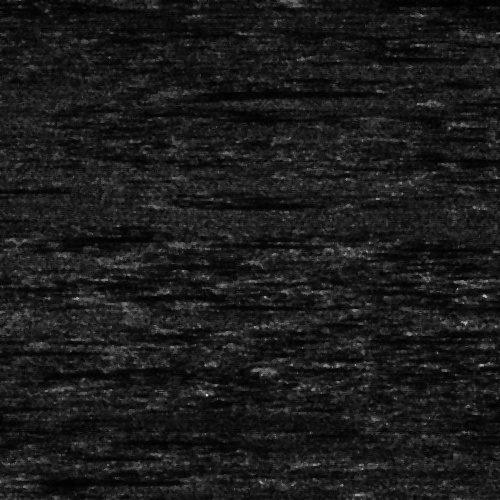object: (147, 85, 210, 98), (83, 292, 176, 299), (441, 115, 500, 126), (0, 474, 52, 485), (0, 235, 63, 242), (61, 435, 144, 440), (179, 238, 232, 245), (135, 199, 188, 206), (153, 302, 226, 307), (304, 0, 335, 6)
shadow: (179, 85, 358, 98), (0, 474, 151, 485), (319, 0, 500, 6), (206, 238, 331, 245), (130, 292, 252, 299), (0, 179, 51, 192), (190, 302, 318, 307), (31, 235, 120, 242), (103, 435, 221, 440), (162, 199, 186, 206)
